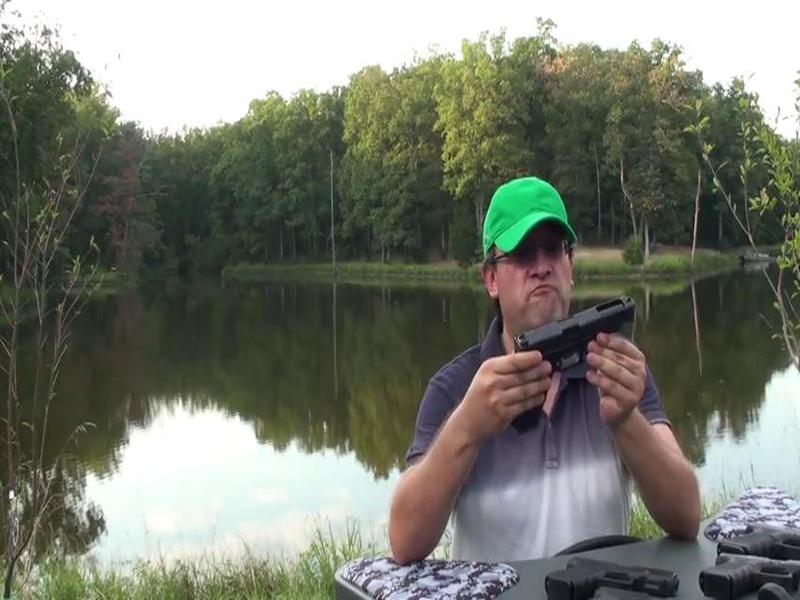Pistola: (507, 284, 637, 442)
